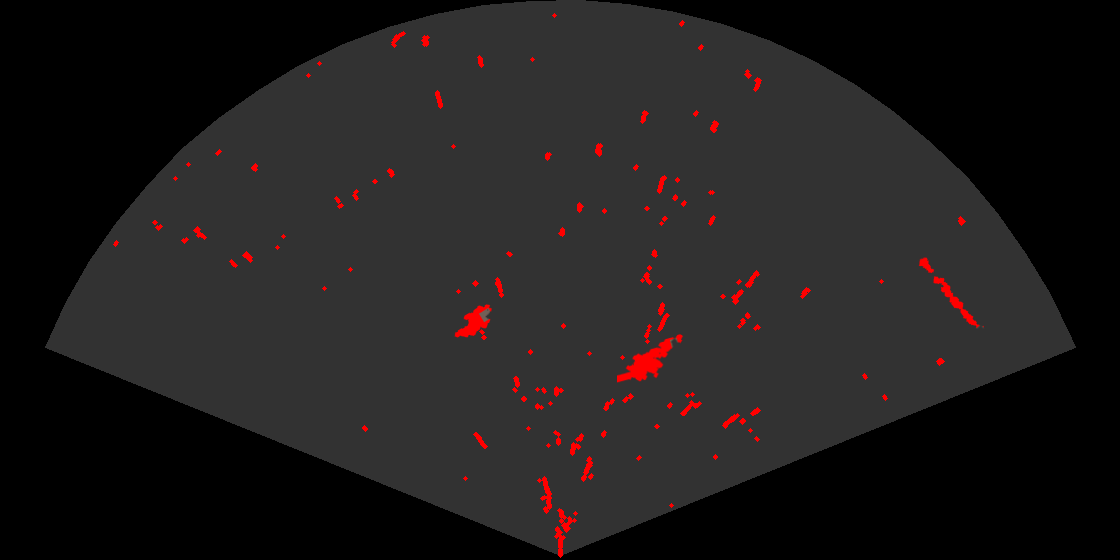AUV: (453, 303, 493, 339)
chain: (917, 256, 986, 329)
frogman: (617, 332, 685, 385)
